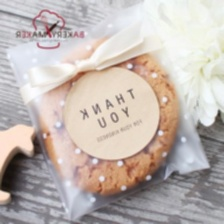snack: (0, 0, 216, 224)
